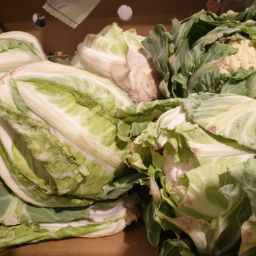Cauliflower: (1, 30, 242, 256), (11, 44, 256, 231), (164, 9, 256, 177)
